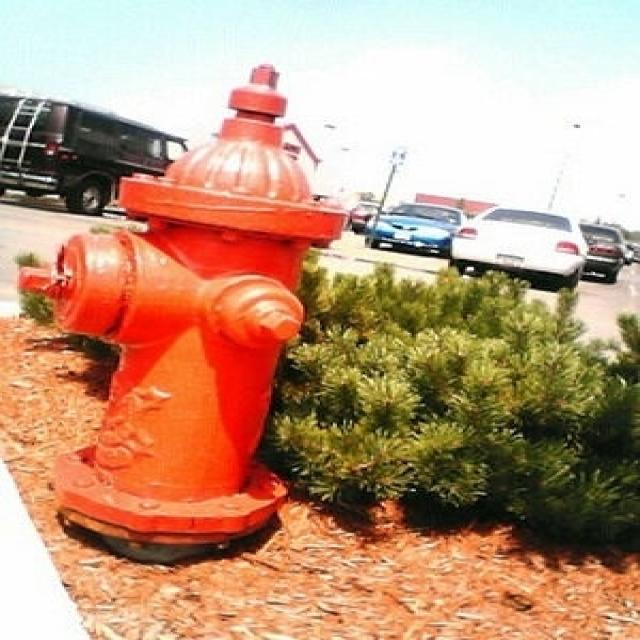fire_hydrant: (58, 20, 353, 601)
